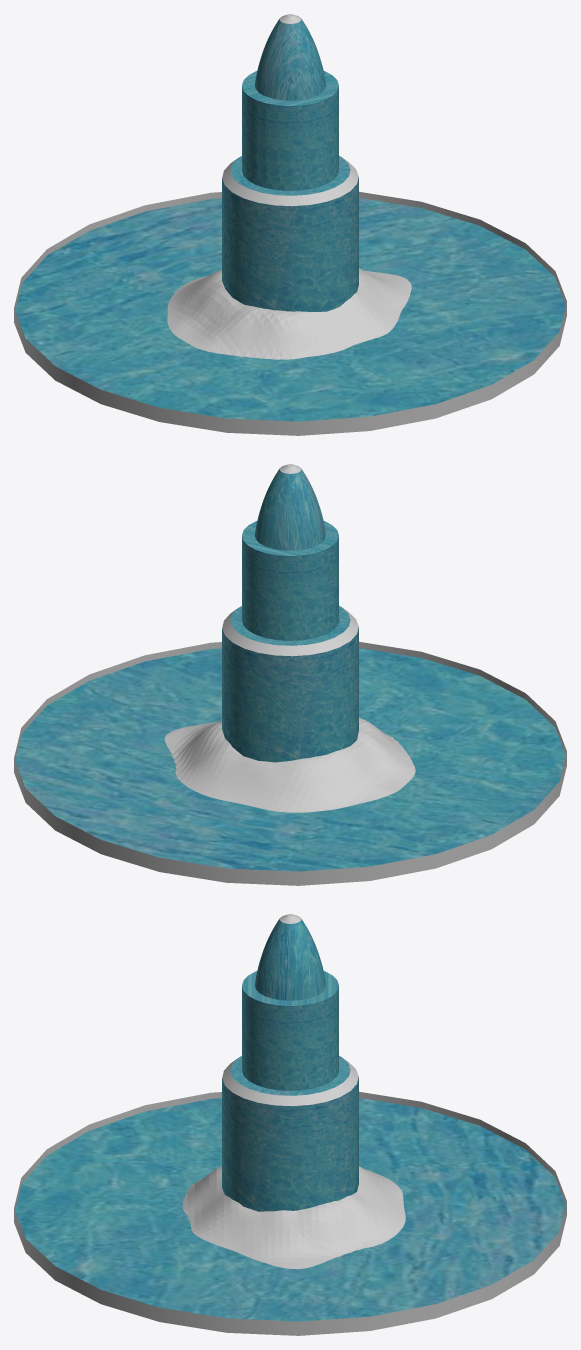
3 renders of one model, top to bottom at view 1: azimuth 30°, elevation 25°; view 2: azimuth 150°, elevation 25°; view 3: azimuth 270°, elevation 25°, orthographic.
Parts seen in each view (by area): view 1: Water_001, Layer0_001, Group_001; view 2: Water_001, Group_001, Layer0_001; view 3: Water_001, Layer0_001, Group_001.
Boxes of the visible parts, <box> form: Water_001: <box>15,18,565,421</box>; Layer0_001: <box>14,14,566,435</box>; Group_001: <box>167,268,411,359</box>; Water_001: <box>15,468,565,871</box>; Group_001: <box>164,717,415,812</box>; Layer0_001: <box>14,464,566,885</box>; Water_001: <box>15,918,565,1321</box>; Layer0_001: <box>14,914,566,1335</box>; Group_001: <box>182,1165,405,1268</box>.
Size of the model in its own units: 594 by 365 by 594.
